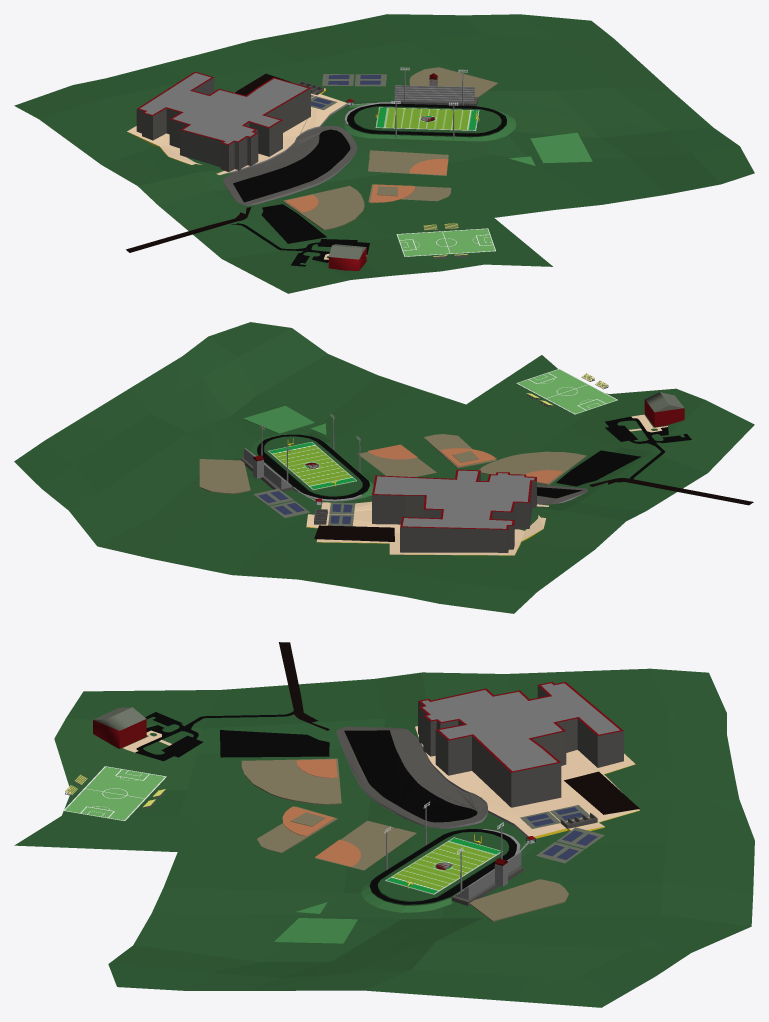
Rendered from isobroadneck.glb.
3 renders of one model, top to bottom at view 1: azimuth 30°, elevation 25°; view 2: azimuth 150°, elevation 25°; view 3: azimuth 270°, elevation 25°, orthographic. The views are drawn at different scales.
Parts seen in each view (by area): view 1: bhs_grass, bhs_bases_fields, bhs_building, bhs_turf, bhs_baseball_field, Soccer Field, bhs_library, bhs_extrafield, bhs_practice_field_2, bhs_baseball; view 2: bhs_grass, bhs_building, bhs_bases_fields, bhs_turf, bhs_library, Soccer Field, bhs_baseball_field, bhs_extrafield, bhs_baseball, bhs_practice_field_2; view 3: bhs_grass, bhs_bases_fields, bhs_building, bhs_turf, bhs_library, bhs_baseball_field, Soccer Field, bhs_extrafield, bhs_baseball, bhs_practice_field_2.
Part boxes in pixels (x1,y1,x2,y2): bhs_grass: (14, 14, 754, 293); bhs_bases_fields: (126, 67, 497, 252); bhs_building: (136, 71, 310, 171); bhs_turf: (344, 67, 516, 141); bhs_baseball_field: (282, 186, 364, 230); Soccer Field: (396, 228, 495, 256); bhs_library: (231, 223, 369, 270); bhs_extrafield: (368, 150, 448, 175); bhs_practice_field_2: (530, 132, 592, 163); bhs_baseball: (368, 184, 451, 203); bhs_grass: (14, 322, 754, 613); bhs_building: (372, 469, 536, 555); bhs_bases_fields: (199, 450, 753, 555); bhs_turf: (240, 413, 373, 507); bhs_library: (605, 392, 691, 479); Soccer Field: (516, 368, 617, 414); bhs_baseball_field: (479, 451, 586, 485); bhs_extrafield: (358, 444, 436, 476); bhs_baseball: (423, 434, 496, 468); bhs_practice_field_2: (243, 406, 314, 433); bhs_grass: (14, 668, 754, 1007); bhs_bases_fields: (220, 642, 639, 921); bhs_building: (418, 681, 623, 807); bhs_turf: (361, 801, 542, 912); bhs_library: (93, 707, 293, 761); bhs_baseball_field: (241, 758, 341, 804); Soccer Field: (63, 766, 166, 821); bhs_extrafield: (315, 820, 416, 870); bhs_baseball: (257, 806, 337, 853); bhs_practice_field_2: (274, 918, 357, 944).
Bounding box in the file's own units: 1.48 × 0.125 × 1.3.
Materials: 27 (2 with a texture image).
